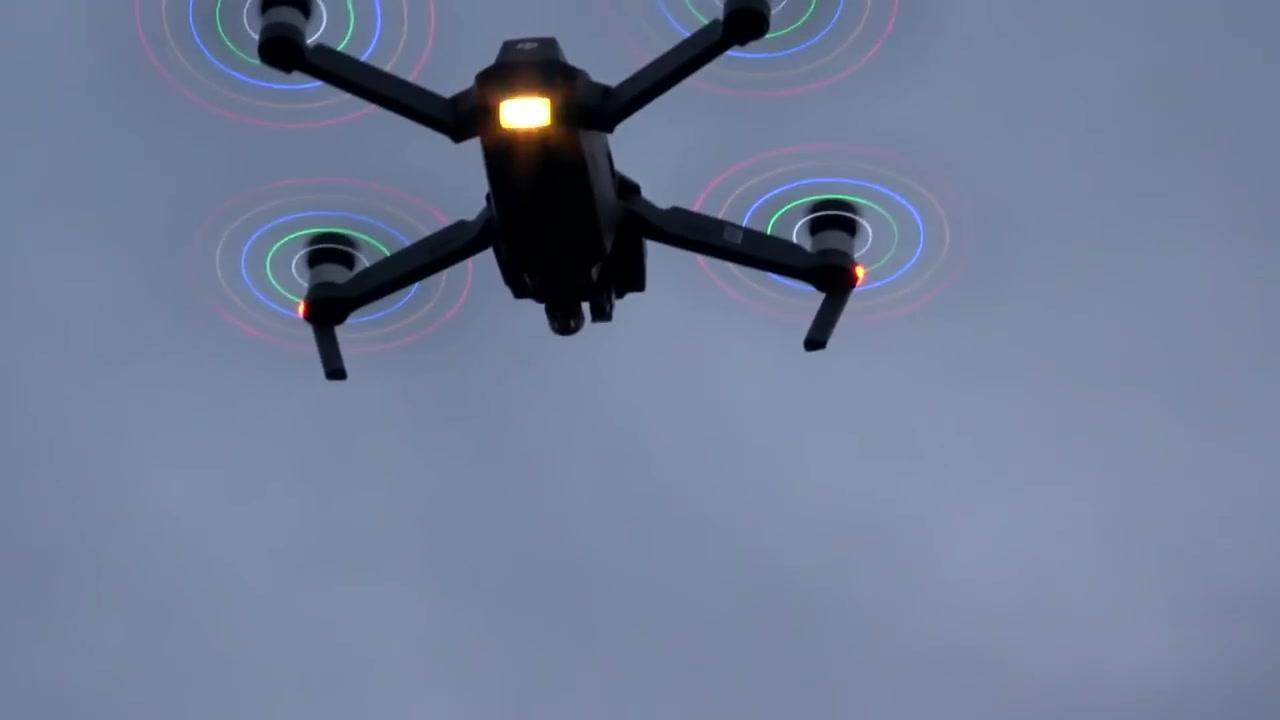UAV: (133, 1, 974, 386)
